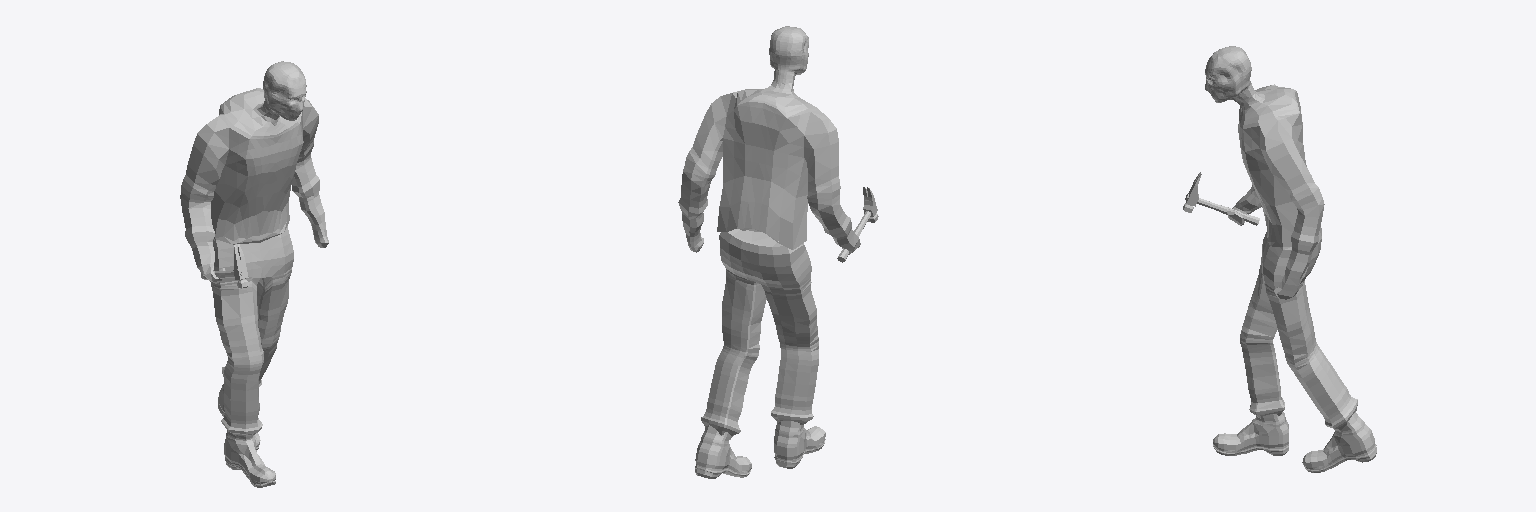
Rendered from Murderer_Idle71.obj.
3 views of the same model, side by side, from view 1: azimuth 30°, elevation 25°; view 2: azimuth 150°, elevation 25°; view 3: azimuth 270°, elevation 25° (orthographic).
Visible parts, largest first — view 1: Körper, Beine, Stiefel, Hammer; view 2: Körper, Beine, Stiefel, Hammer; view 3: Körper, Beine, Stiefel, Hammer.
Part boxes in pixels (left/top/right/bottom): Körper: left=180, top=61, right=328, bottom=283; Beine: left=210, top=226, right=293, bottom=435; Stiefel: left=218, top=384, right=275, bottom=487; Hammer: left=201, top=244, right=248, bottom=288; Körper: left=678, top=26, right=860, bottom=254; Beine: left=701, top=229, right=818, bottom=439; Stiefel: left=695, top=421, right=825, bottom=478; Hammer: left=837, top=187, right=878, bottom=262; Körper: left=1205, top=46, right=1324, bottom=299; Beine: left=1240, top=227, right=1357, bottom=429; Stiefel: left=1213, top=412, right=1376, bottom=472; Hammer: left=1183, top=172, right=1259, bottom=225.
Size of the model in its own units: 0.3577 by 0.9623 by 0.4088.